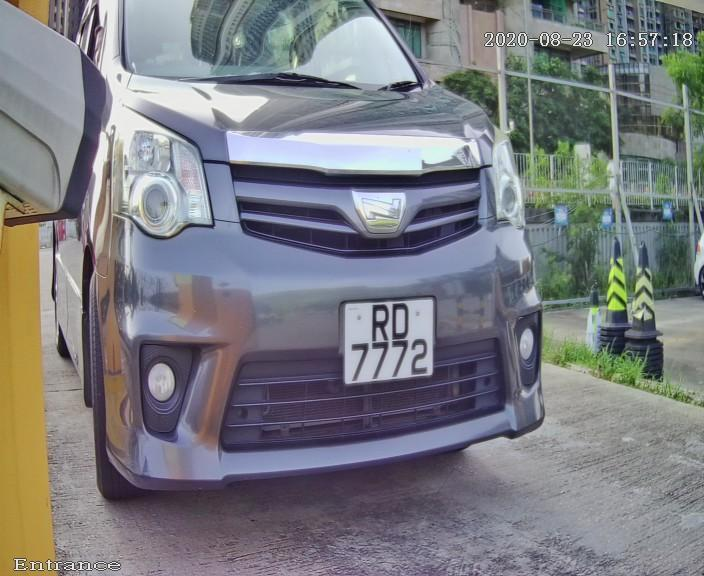Car: (45, 3, 573, 538)
License Plate: (315, 264, 476, 425)
